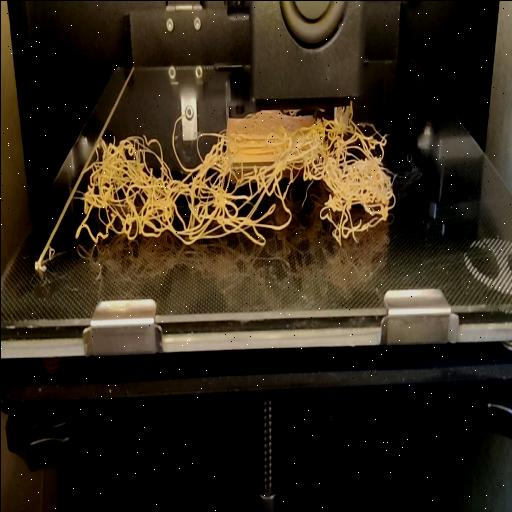spaghetti: (74, 105, 398, 243)
